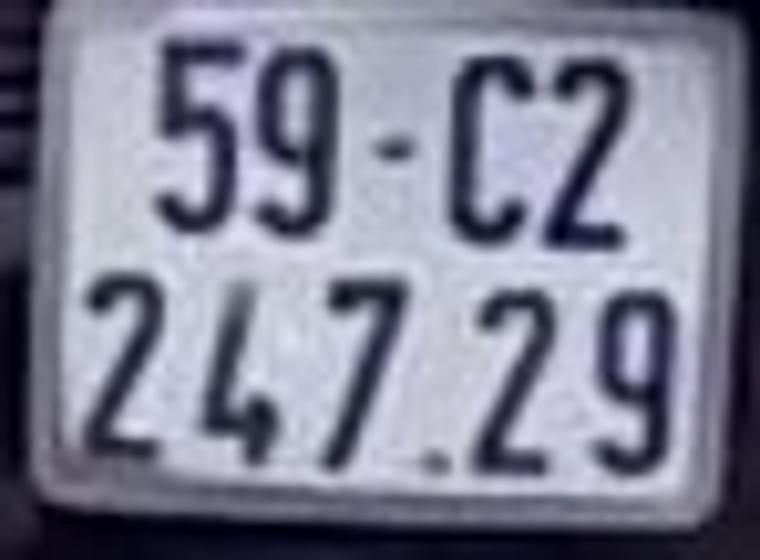-: (370, 127, 425, 174)
.: (417, 449, 465, 490)
2: (466, 275, 566, 480), (76, 269, 174, 457), (550, 52, 636, 259)
4: (188, 287, 286, 466)
5: (150, 40, 248, 240)
7: (314, 275, 412, 470)
9: (252, 49, 350, 242), (591, 286, 681, 480)
C: (446, 50, 532, 248)
